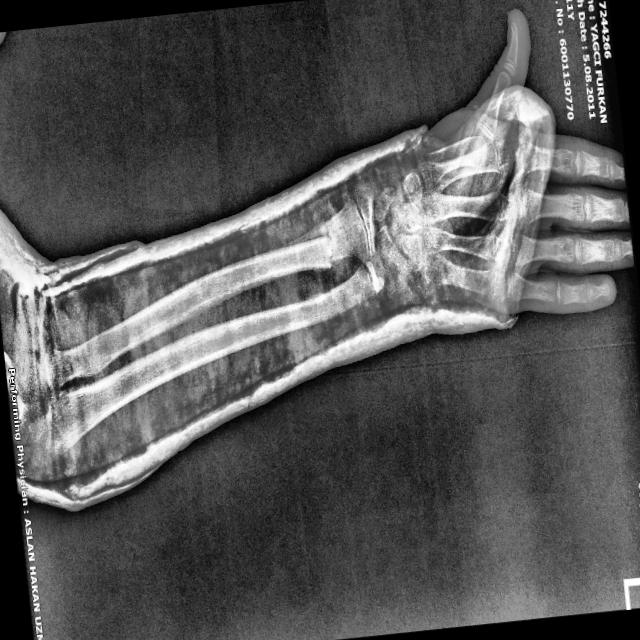Fracture: (309, 206, 345, 279)
